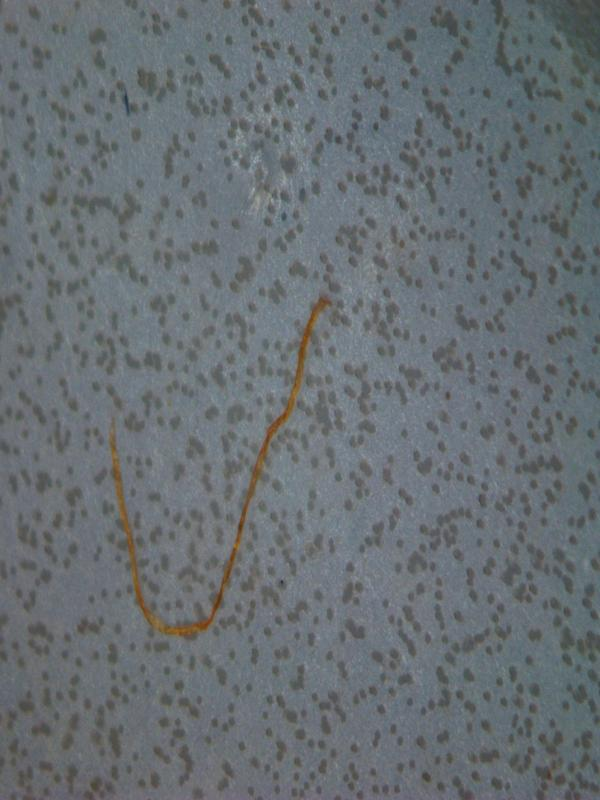microplastic: (1, 2, 598, 799), (108, 295, 333, 640)
